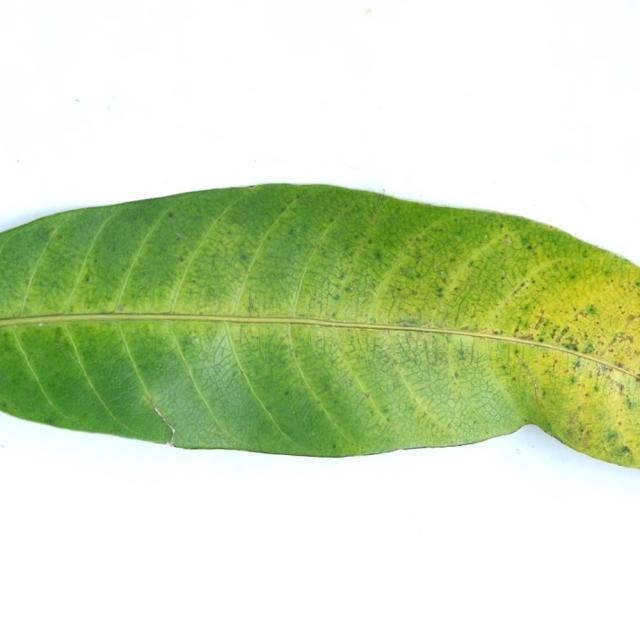Mango: (0, 184, 639, 468)
Powdery_Mildew: (604, 427, 623, 448), (509, 279, 530, 298), (366, 248, 387, 266), (584, 301, 601, 320), (396, 319, 427, 328), (519, 300, 536, 316), (623, 393, 636, 410), (576, 309, 594, 321), (181, 335, 197, 348), (558, 326, 571, 340), (564, 341, 579, 352), (585, 303, 598, 315), (584, 342, 596, 353), (434, 285, 444, 296), (572, 359, 582, 370), (602, 363, 613, 373), (329, 292, 341, 301), (44, 416, 56, 425), (622, 445, 632, 455), (569, 374, 578, 385), (614, 361, 625, 370), (239, 252, 249, 261), (380, 406, 390, 415), (617, 382, 625, 393), (390, 286, 402, 293), (592, 383, 600, 393), (503, 236, 511, 245), (512, 348, 520, 357), (287, 229, 295, 237), (492, 329, 502, 335), (537, 336, 545, 343), (345, 286, 353, 293), (336, 272, 344, 279), (578, 426, 585, 434), (460, 325, 470, 330), (48, 227, 55, 234), (525, 244, 533, 250), (332, 311, 338, 318), (316, 299, 322, 306), (280, 207, 286, 213), (85, 275, 90, 282), (454, 372, 459, 379), (168, 212, 173, 218), (178, 256, 184, 261), (25, 278, 30, 284), (2, 401, 7, 407), (637, 278, 640, 287), (217, 218, 222, 223), (284, 391, 289, 395)
